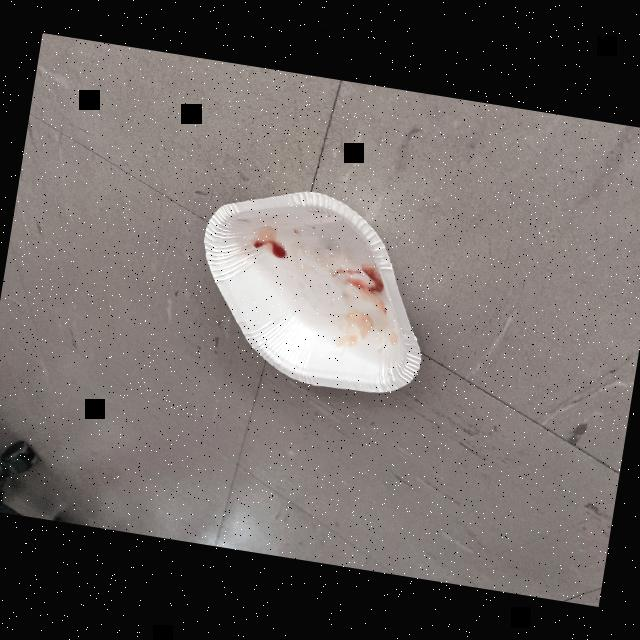cardboard_bowl: (172, 164, 456, 422)
